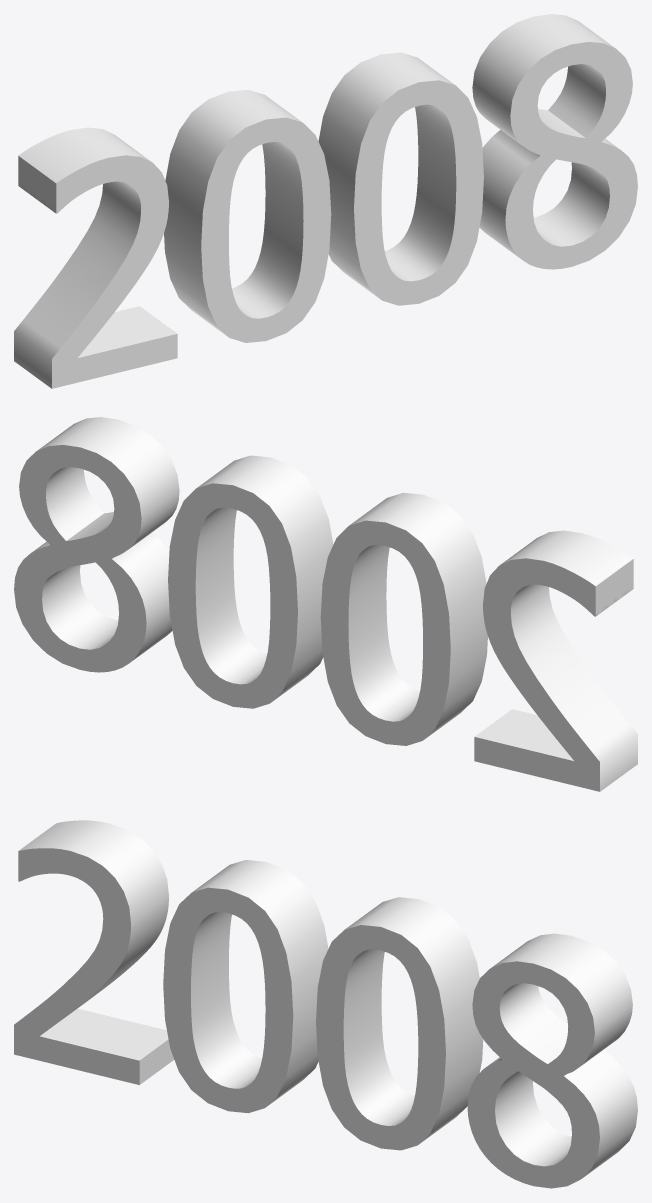
The picture shows the model from 3 angles, top to bottom: view 1: azimuth 30°, elevation 25°; view 2: azimuth 150°, elevation 25°; view 3: azimuth 330°, elevation 25°; orthographic projection.
Parts seen in each view (by area): view 1: mesh_id57; view 2: mesh_id57; view 3: mesh_id57.
Boxes of the visible parts, bbox=[...] form: mesh_id57: bbox=[14, 14, 637, 388]; mesh_id57: bbox=[14, 417, 637, 791]; mesh_id57: bbox=[14, 820, 637, 1188].
Size of the model in its own units: 0.3092 by 0.1123 by 0.0347.
1 material, 1 textured.
